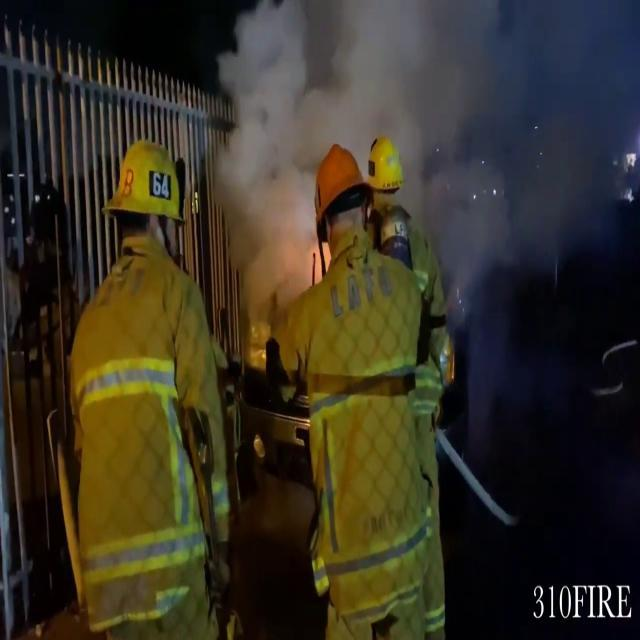Smoke: (207, 0, 630, 273)
